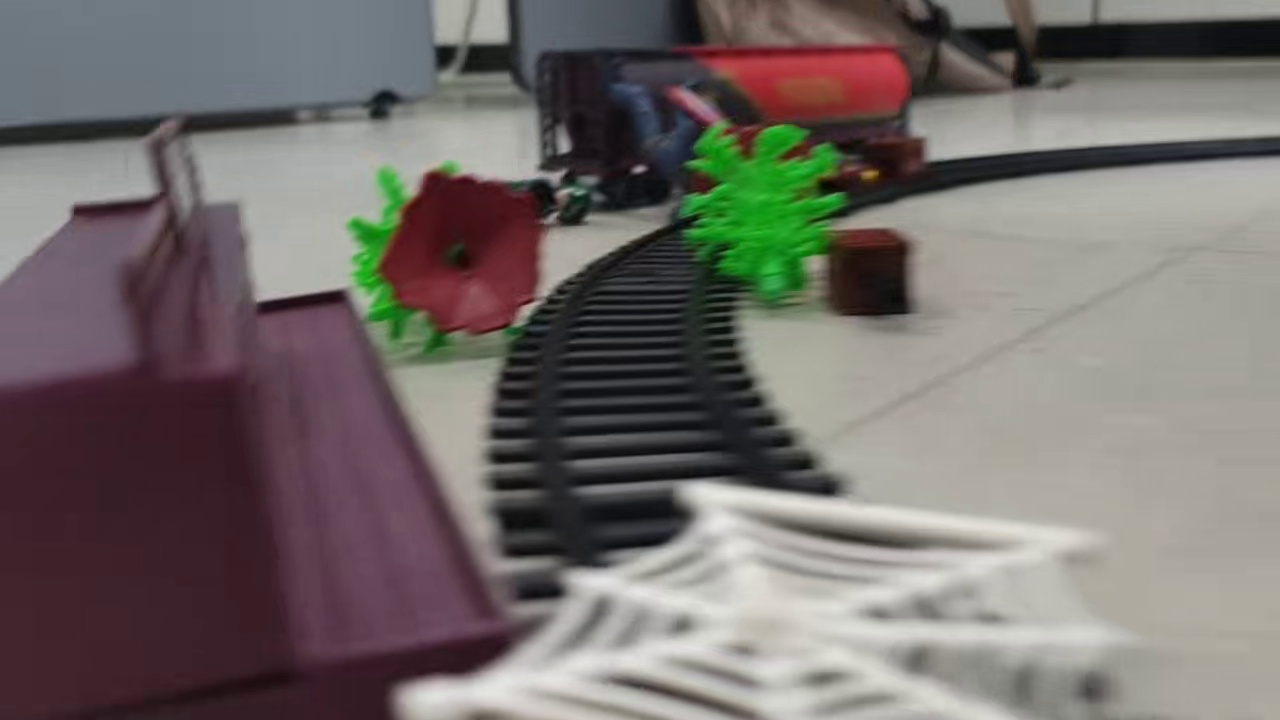box: (823, 224, 915, 318), (860, 131, 925, 187)
people: (590, 56, 741, 202), (513, 174, 593, 224)
tree: (348, 160, 544, 356), (675, 119, 854, 306)
web: (391, 474, 1152, 720)
